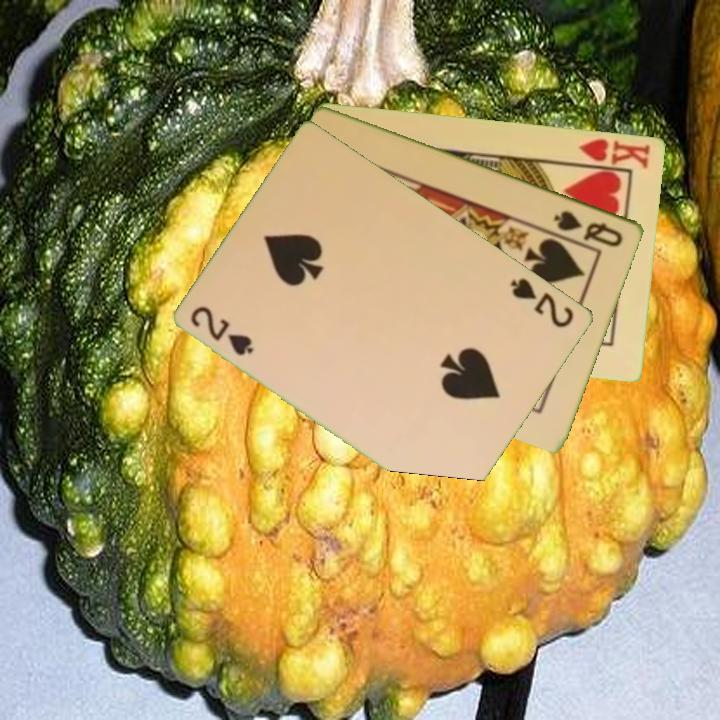2s: (507, 274, 578, 331), (187, 302, 257, 359)
Kh: (569, 134, 654, 172)
Qs: (550, 206, 626, 250)
